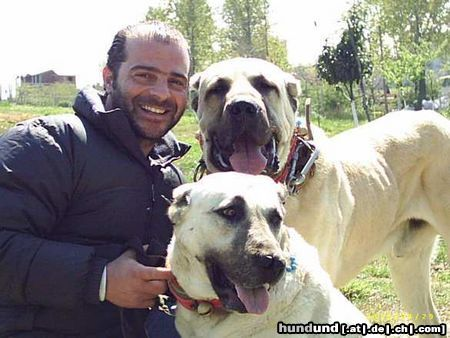human_face: (100, 47, 190, 140)
kangal: (189, 57, 450, 338), (166, 171, 381, 338)
person: (0, 20, 193, 338)
